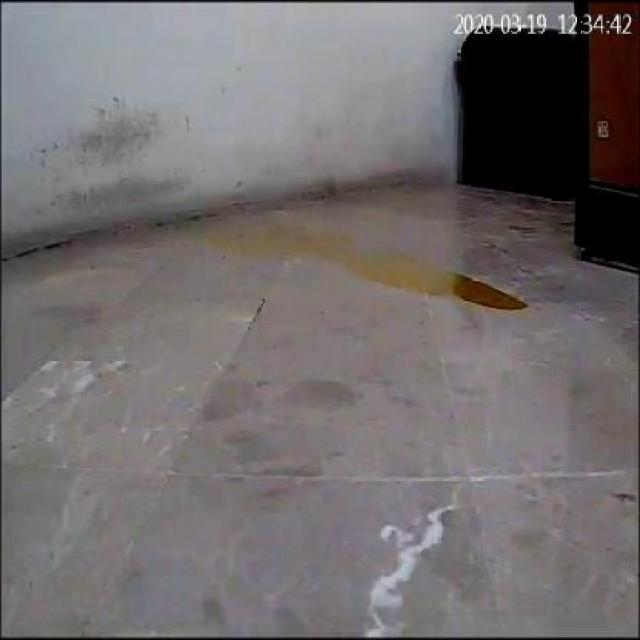spill: (262, 218, 526, 316)
